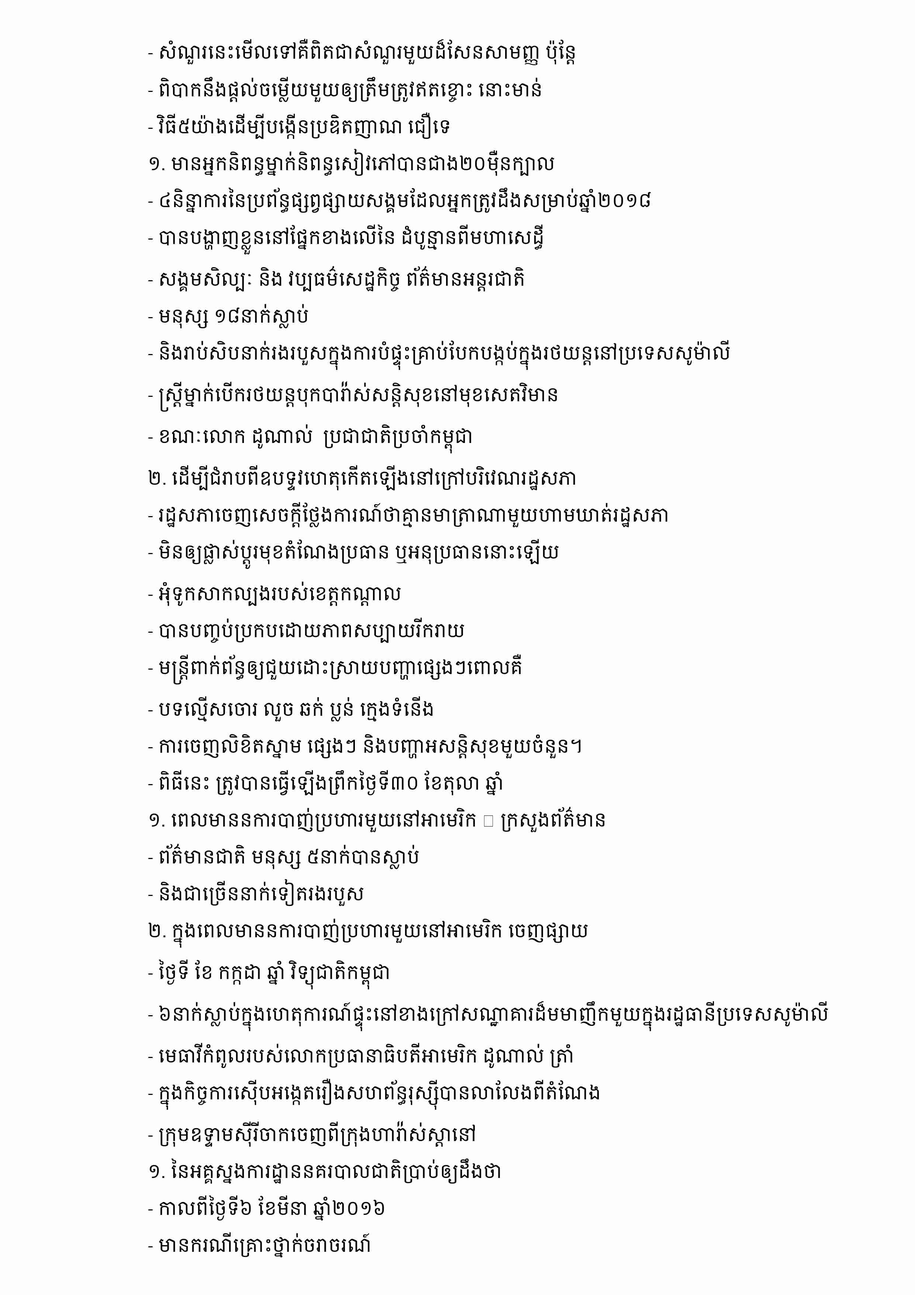text: (148, 1001, 834, 1031), (148, 340, 736, 370), (148, 1078, 606, 1110), (148, 502, 674, 528), (148, 918, 594, 948), (148, 381, 564, 412), (148, 188, 657, 213), (148, 539, 564, 569), (148, 224, 549, 255), (148, 654, 528, 685), (148, 807, 612, 832), (148, 39, 582, 65), (148, 465, 582, 491), (148, 149, 560, 176), (148, 734, 587, 759), (148, 1043, 579, 1068), (148, 77, 548, 102), (148, 266, 530, 292), (148, 424, 478, 454), (148, 770, 509, 796), (148, 1158, 507, 1184), (148, 1121, 481, 1147), (148, 112, 456, 139), (148, 618, 470, 643), (148, 959, 396, 990), (148, 696, 439, 722), (148, 844, 425, 869), (148, 581, 407, 606), (148, 1195, 391, 1221), (148, 879, 369, 906), (148, 1232, 376, 1258), (148, 304, 314, 329)
